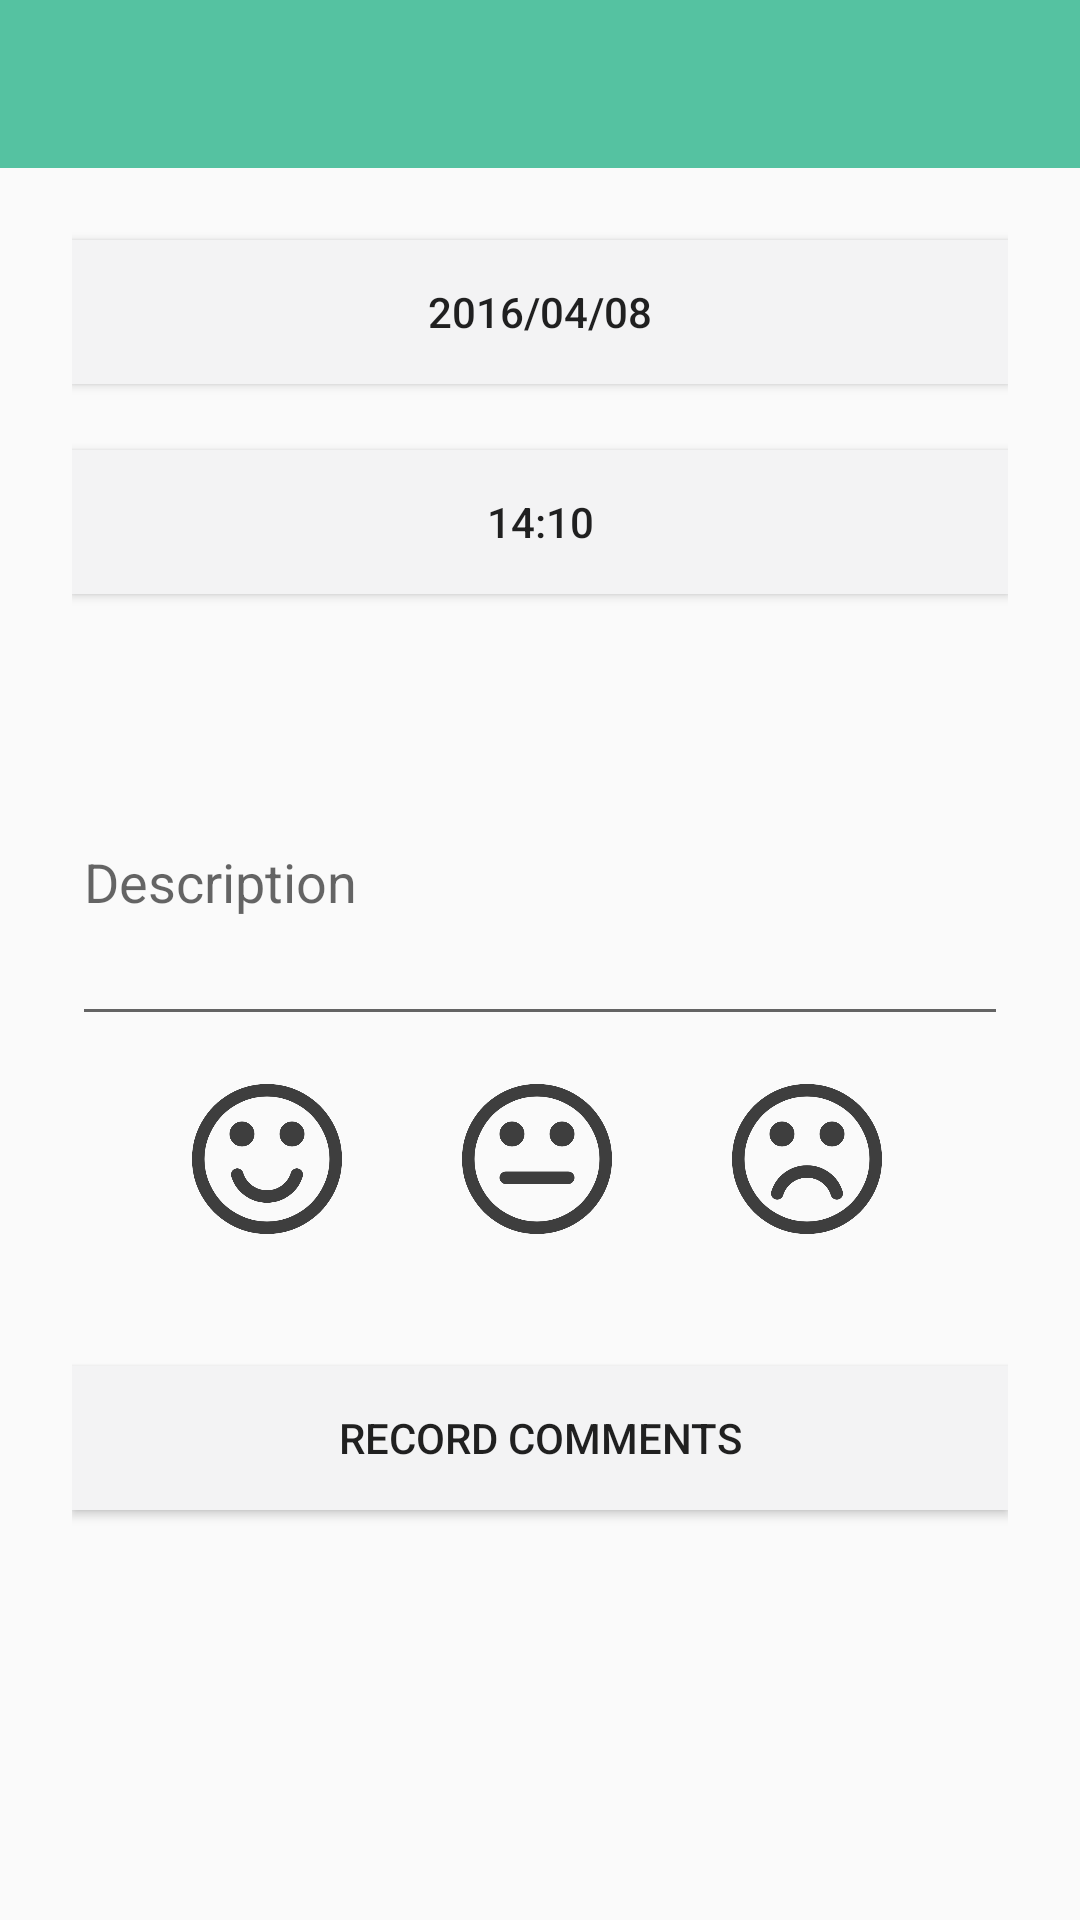

Locate icon controls on the screen. Image size 1080*1920, boxes as (x1, y1, x2, y2).
sad: (732, 1084, 882, 1234)
smile: (192, 1084, 342, 1234)
